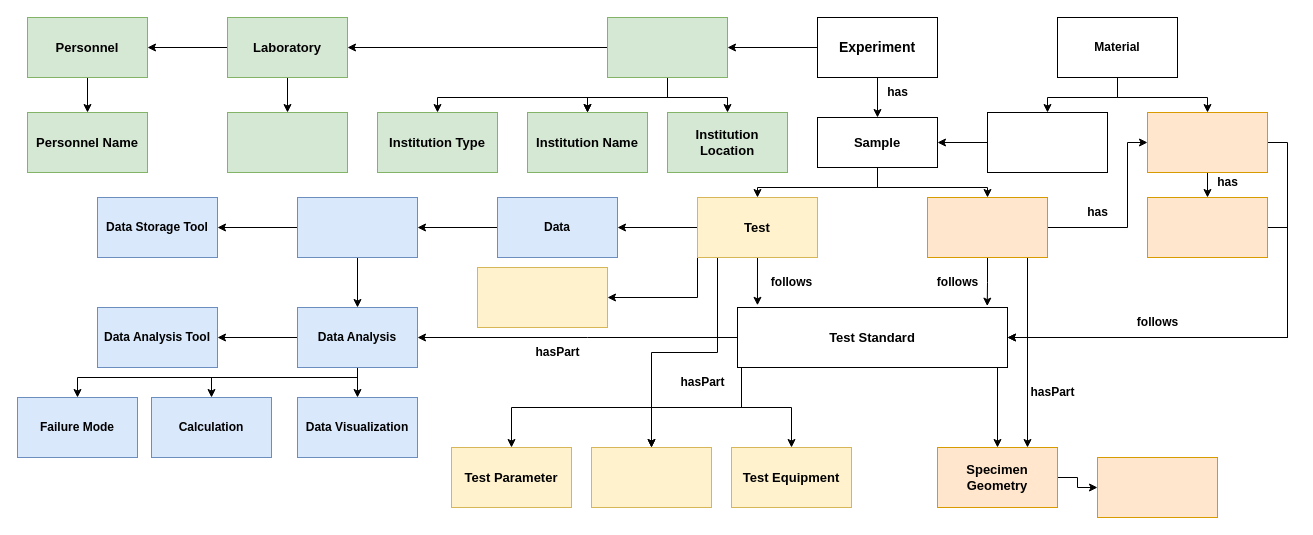
Image size: 1313x535. Some labels were removed from this diagram. Here are the shapes that lost their labels. From the top down, the centre of each, then its label:
the point at 667,47: Institution
the point at 287,142: Laboratory Name
the point at 1047,142: Composite Material
the point at 1207,142: Material Manufacturing
the point at 357,227: Data Storage
the point at 987,227: Specimen
the point at 1207,227: Manufacturing Equipment
the point at 542,297: Test Environment
the point at 651,477: Test Methodology
the point at 1157,487: Geometry Equipment
